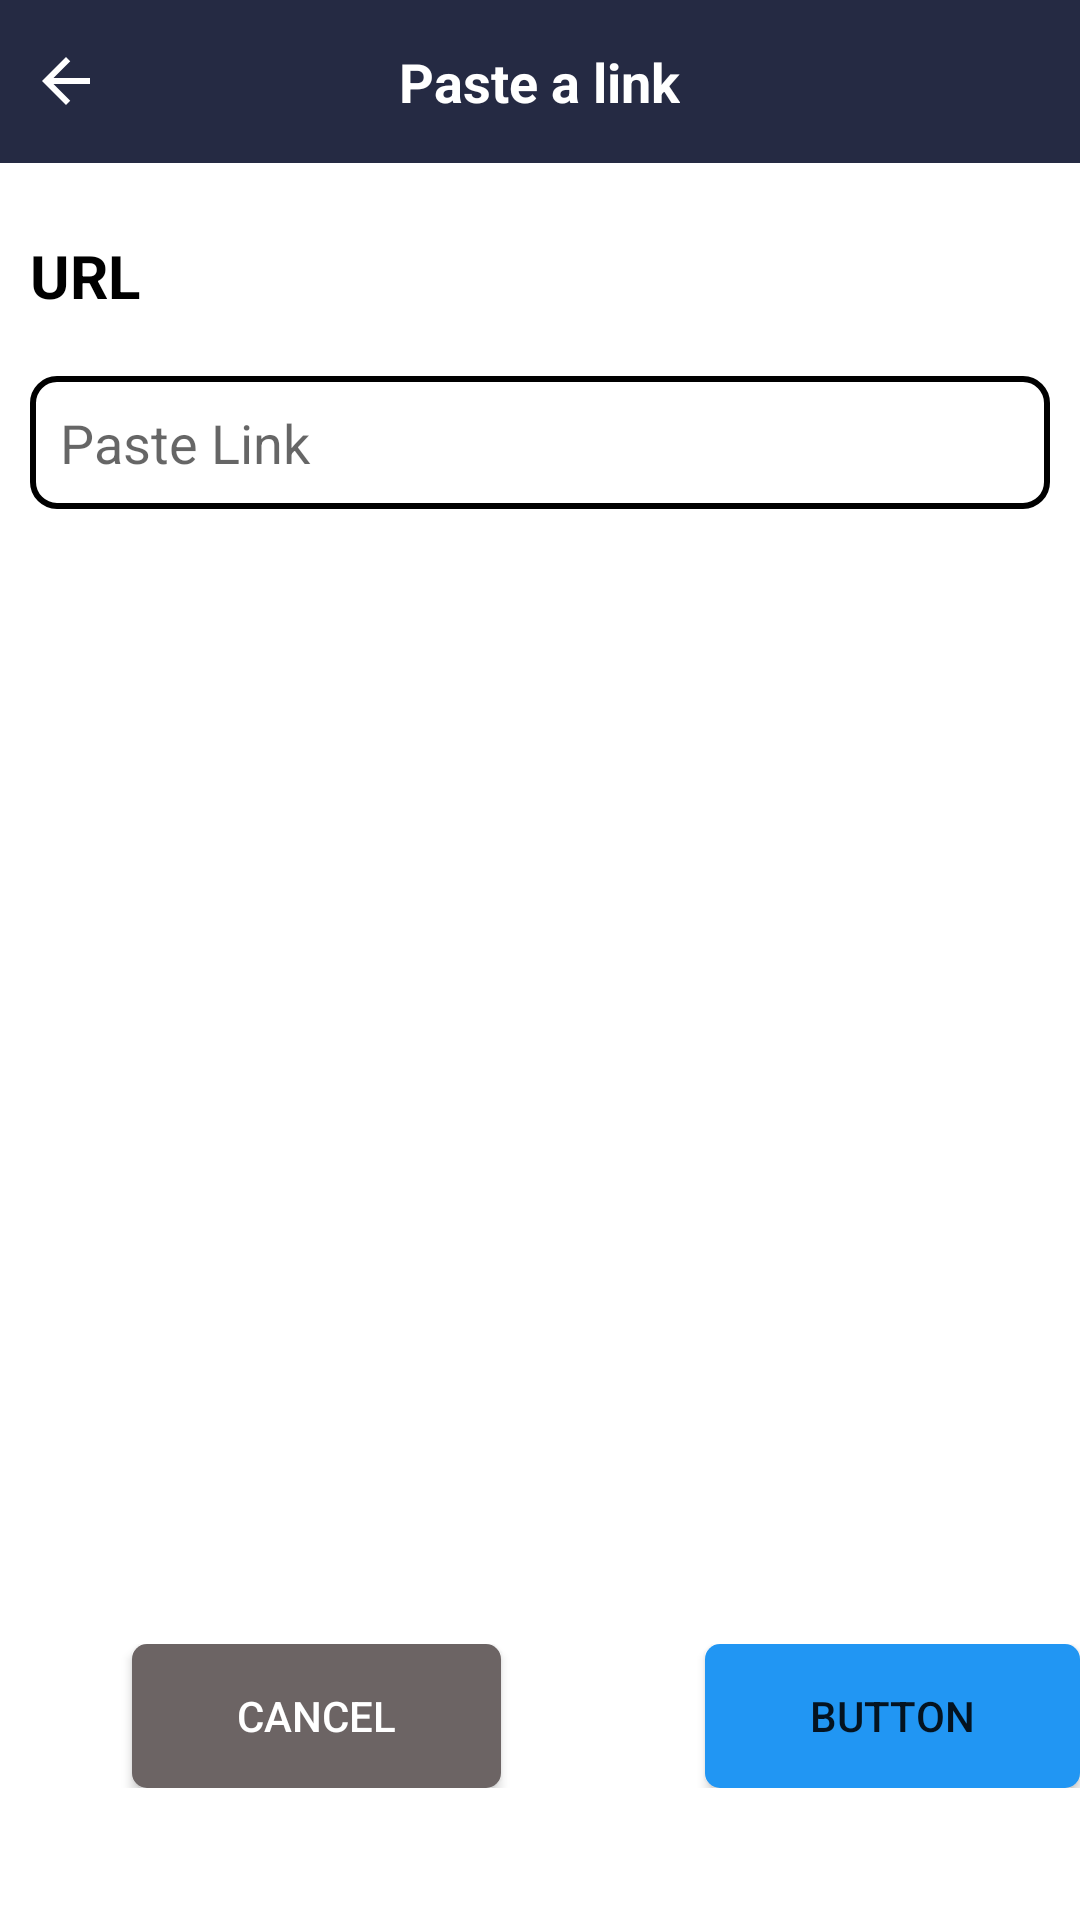

Named icons in this screenshot (1080*1920) and their centers, point (x, y):
arrow back: point (66, 81)
